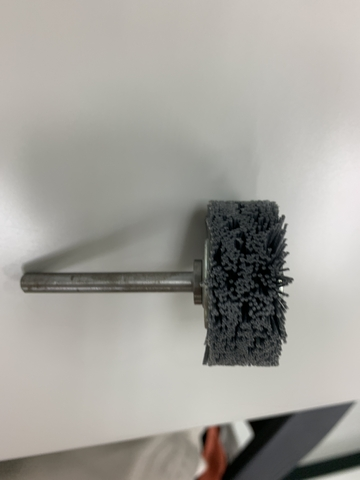Wheel Brush: (17, 198, 290, 372), (96, 192, 282, 368)
